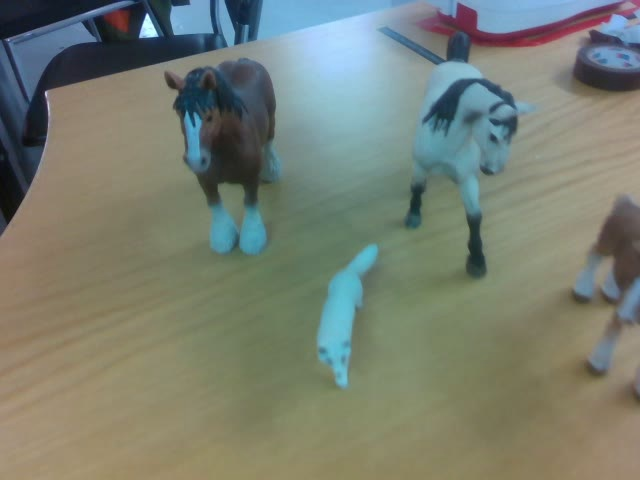toy: (407, 33, 535, 280), (164, 56, 277, 253), (314, 243, 378, 386)
